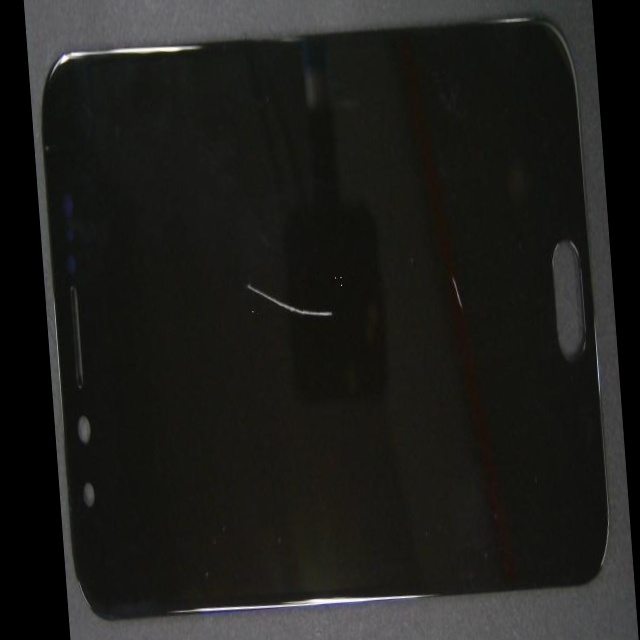scratch: (84, 98, 381, 486)
